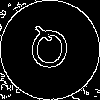Q: (25, 25, 72, 80)
